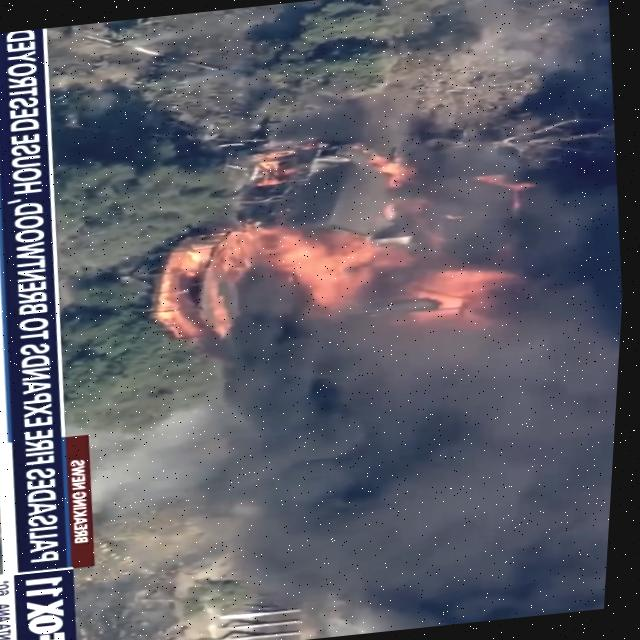Smoke: (222, 231, 629, 640)
